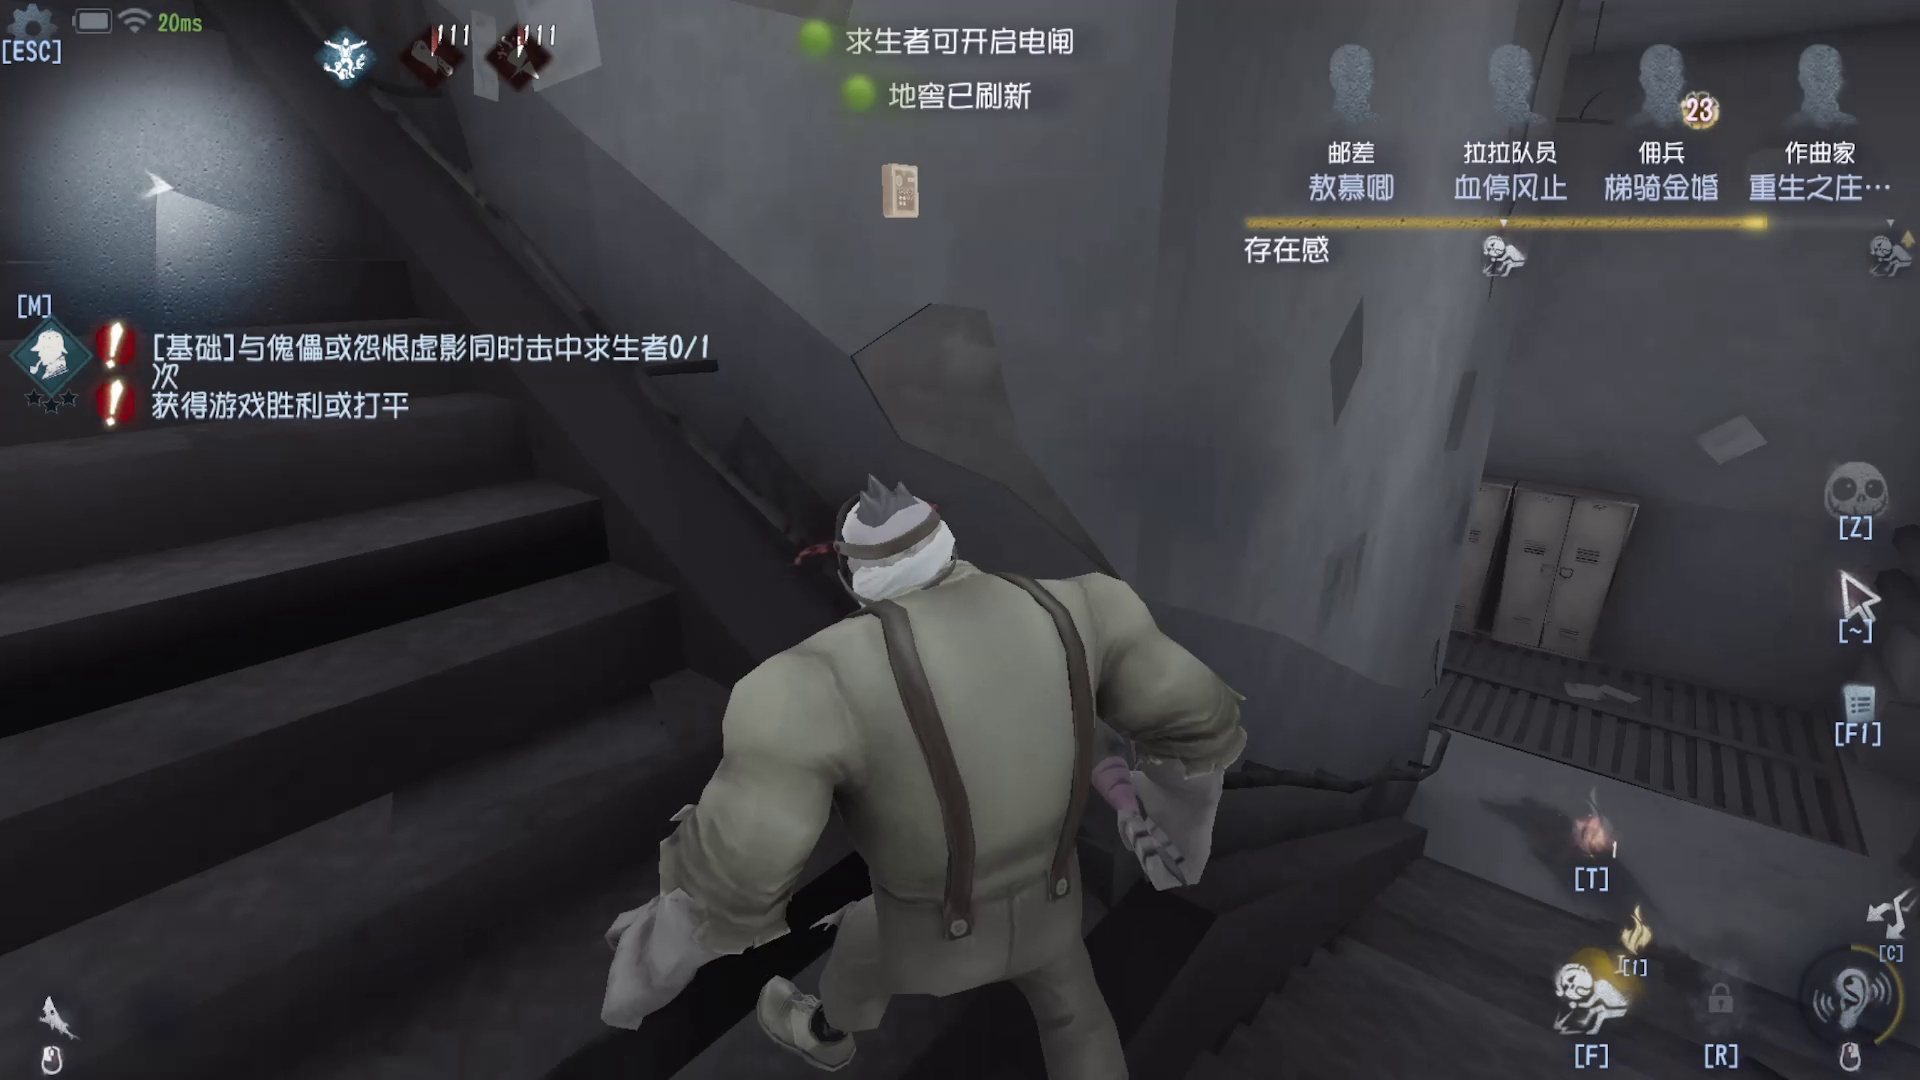设置: (1, 1, 90, 79)
